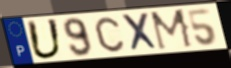5: (185, 7, 218, 47)
9: (61, 16, 94, 58)
C: (93, 15, 126, 53)
M: (149, 8, 196, 52)
U: (25, 18, 64, 61)
X: (119, 11, 162, 53)
